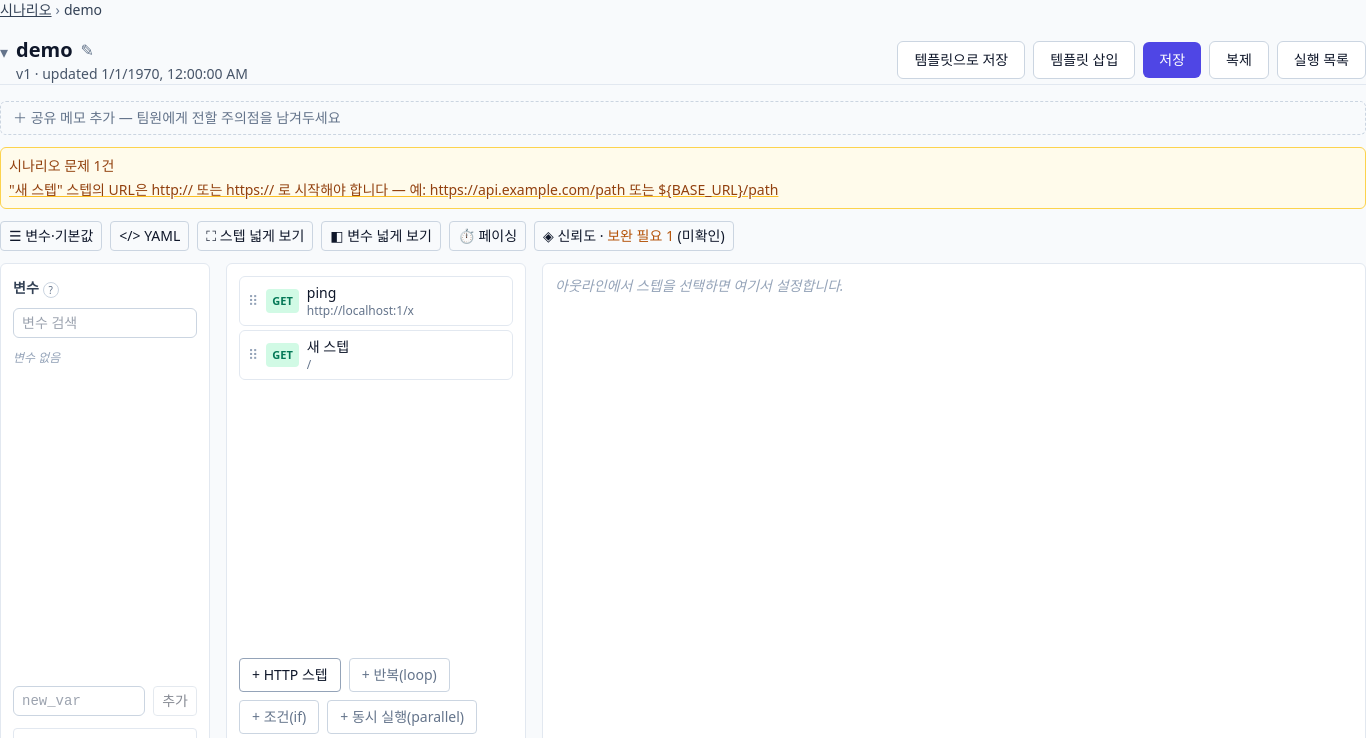
Test: ScenarioEditPage 이탈 가드 › dirty에서 실행 목록 링크 클릭 → 3버튼 다이얼로그, 잔류 (R1·R2)
The image size is (1366, 738).
Expected: the heading "demo" is shown, [16,36,72,64]
Expected: the button "저장" is enabled, [1143,42,1201,78]
Click the button "실행 목록".
click(1321, 60)  # box [1277,41,1365,79]
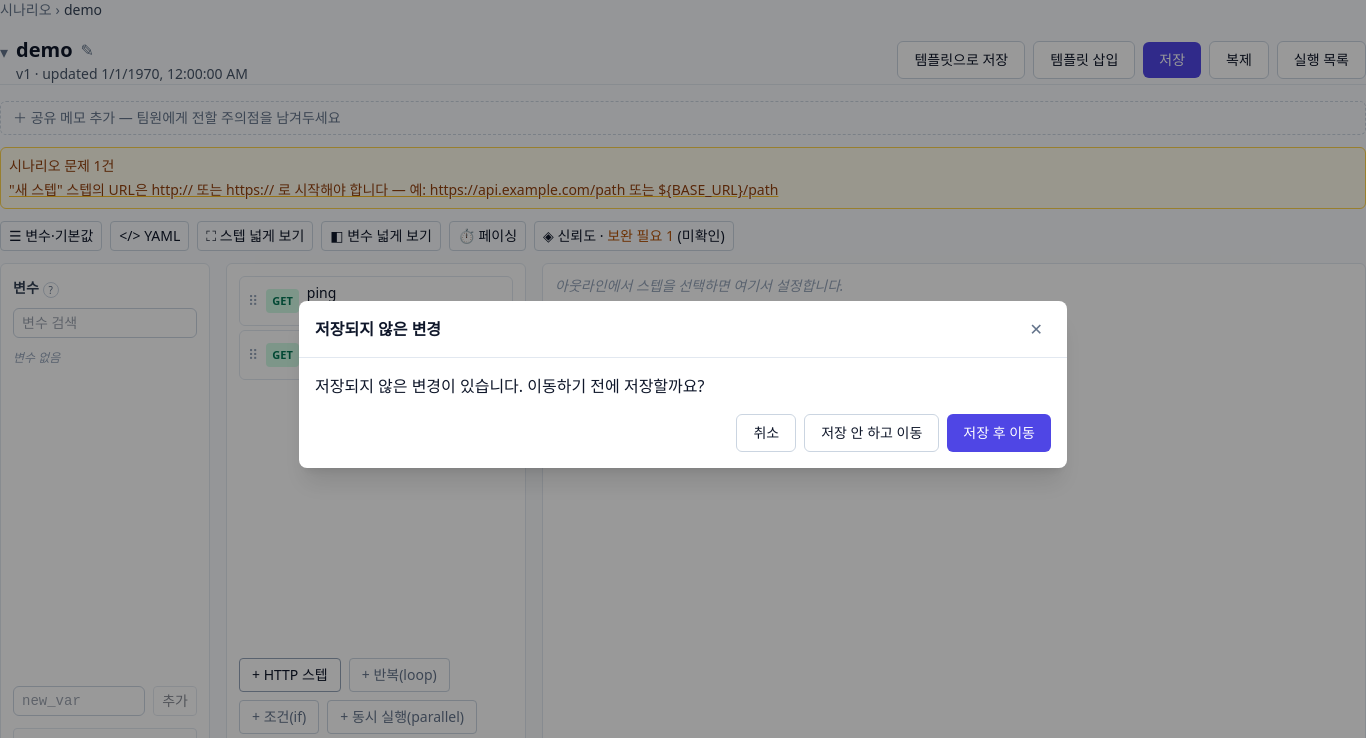
Now the dialog "저장되지 않은 변경" is shown, box [299,300,1067,468]
Now the text "저장되지 않은 변경이 있습니다. 이동하기 전에 저장할까요?" is shown, box [315,374,704,396]
Now the button "취소" is shown, box [736,414,796,452]
